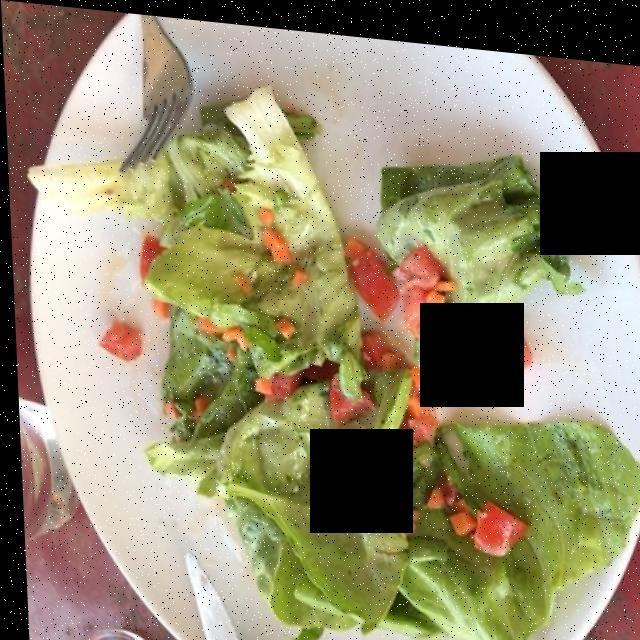carrot: (177, 205, 471, 525)
salad: (51, 89, 616, 632)
